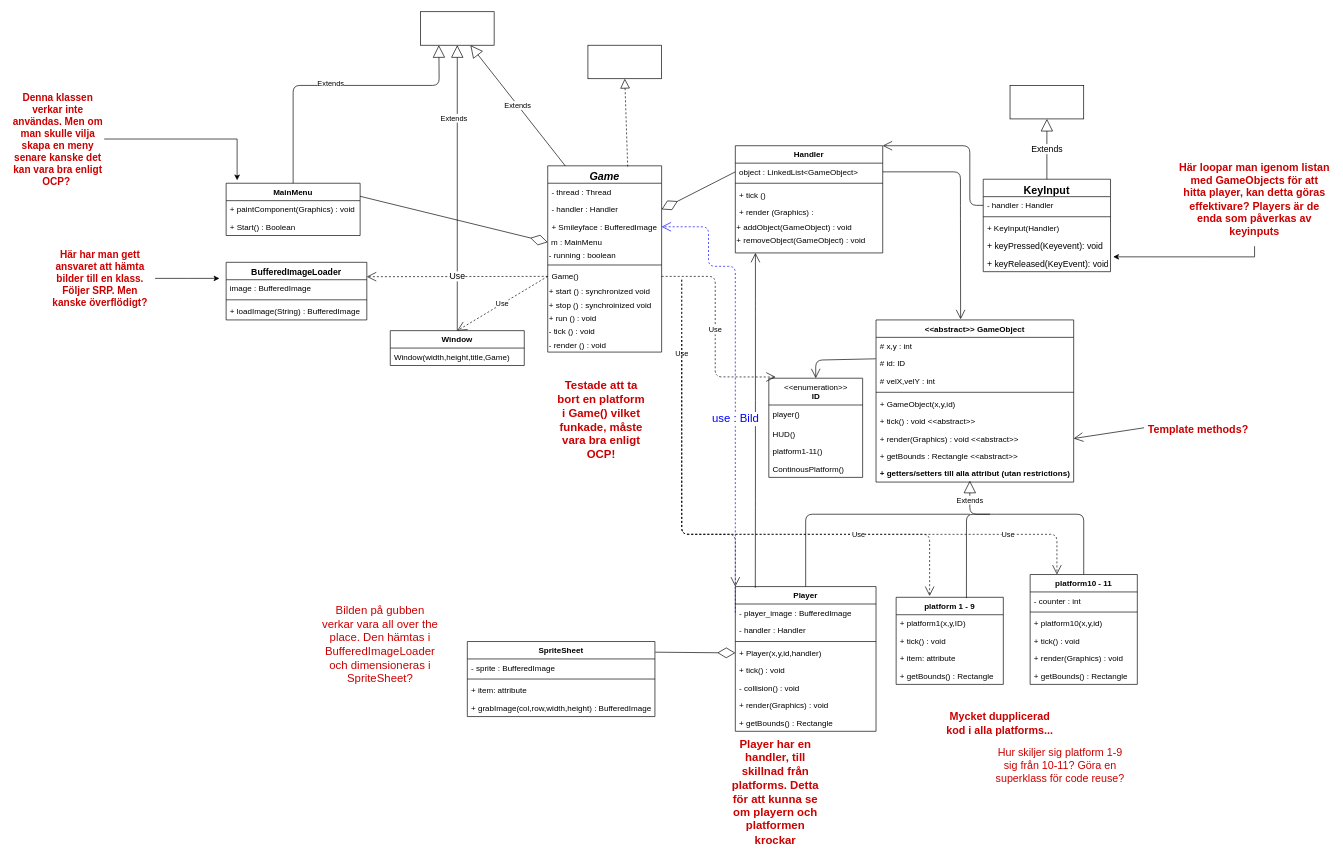
The diagram is 1343 pixels wide and 858 high, and some of its shapes have lost their labels. The centre of each missing label's shape, as x and y in pixels:
"Canvas" goes at (x=457, y=28).
"KeyAdapter" goes at (x=1046, y=102).
"«interface» Runnable" goes at (x=624, y=62).
